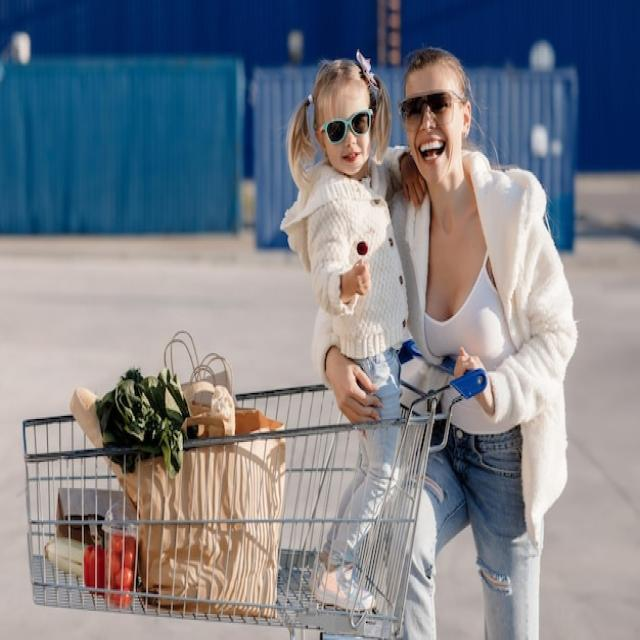Person: (312, 46, 579, 640), (282, 52, 427, 614)
